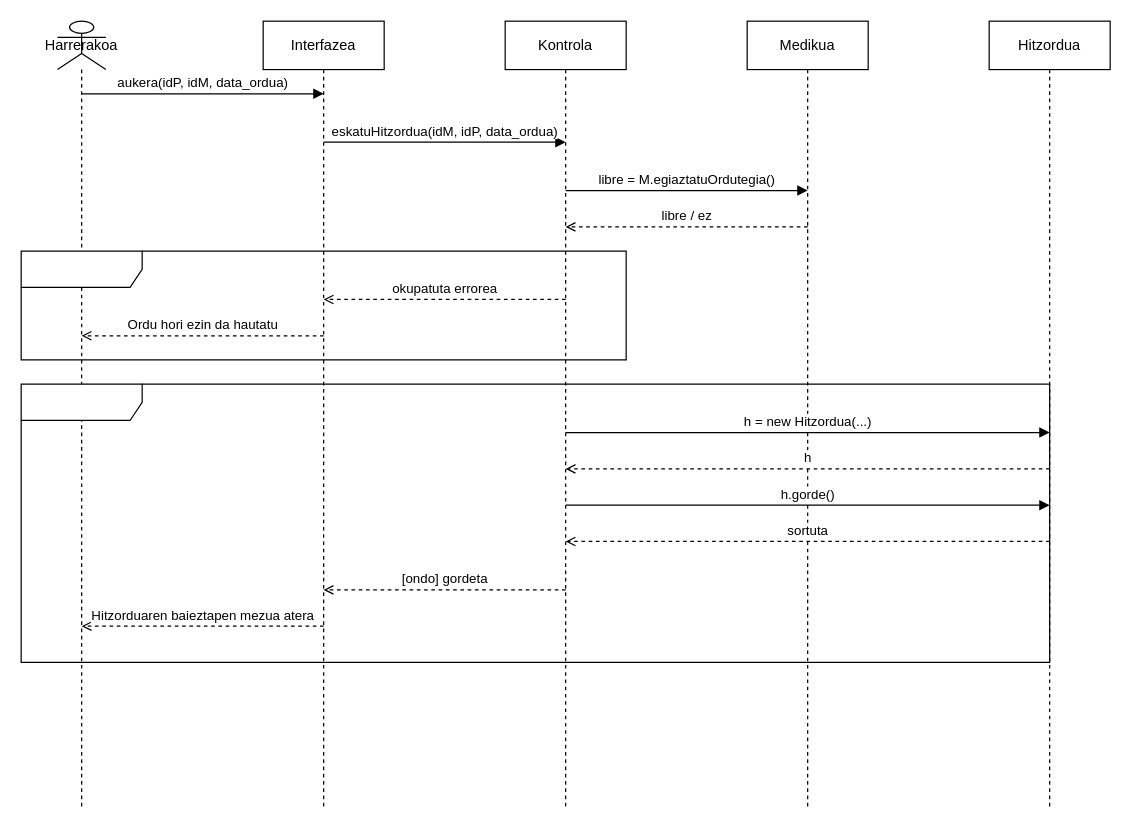
Image size: 1131x829. Some labels were removed from this diagram. The box of each missing label's shape, as (x1, y1, x2, y2) in pixels:
alt [libre == bai]: (20, 383, 1050, 662)
alt [libre == ez]: (20, 250, 626, 360)
